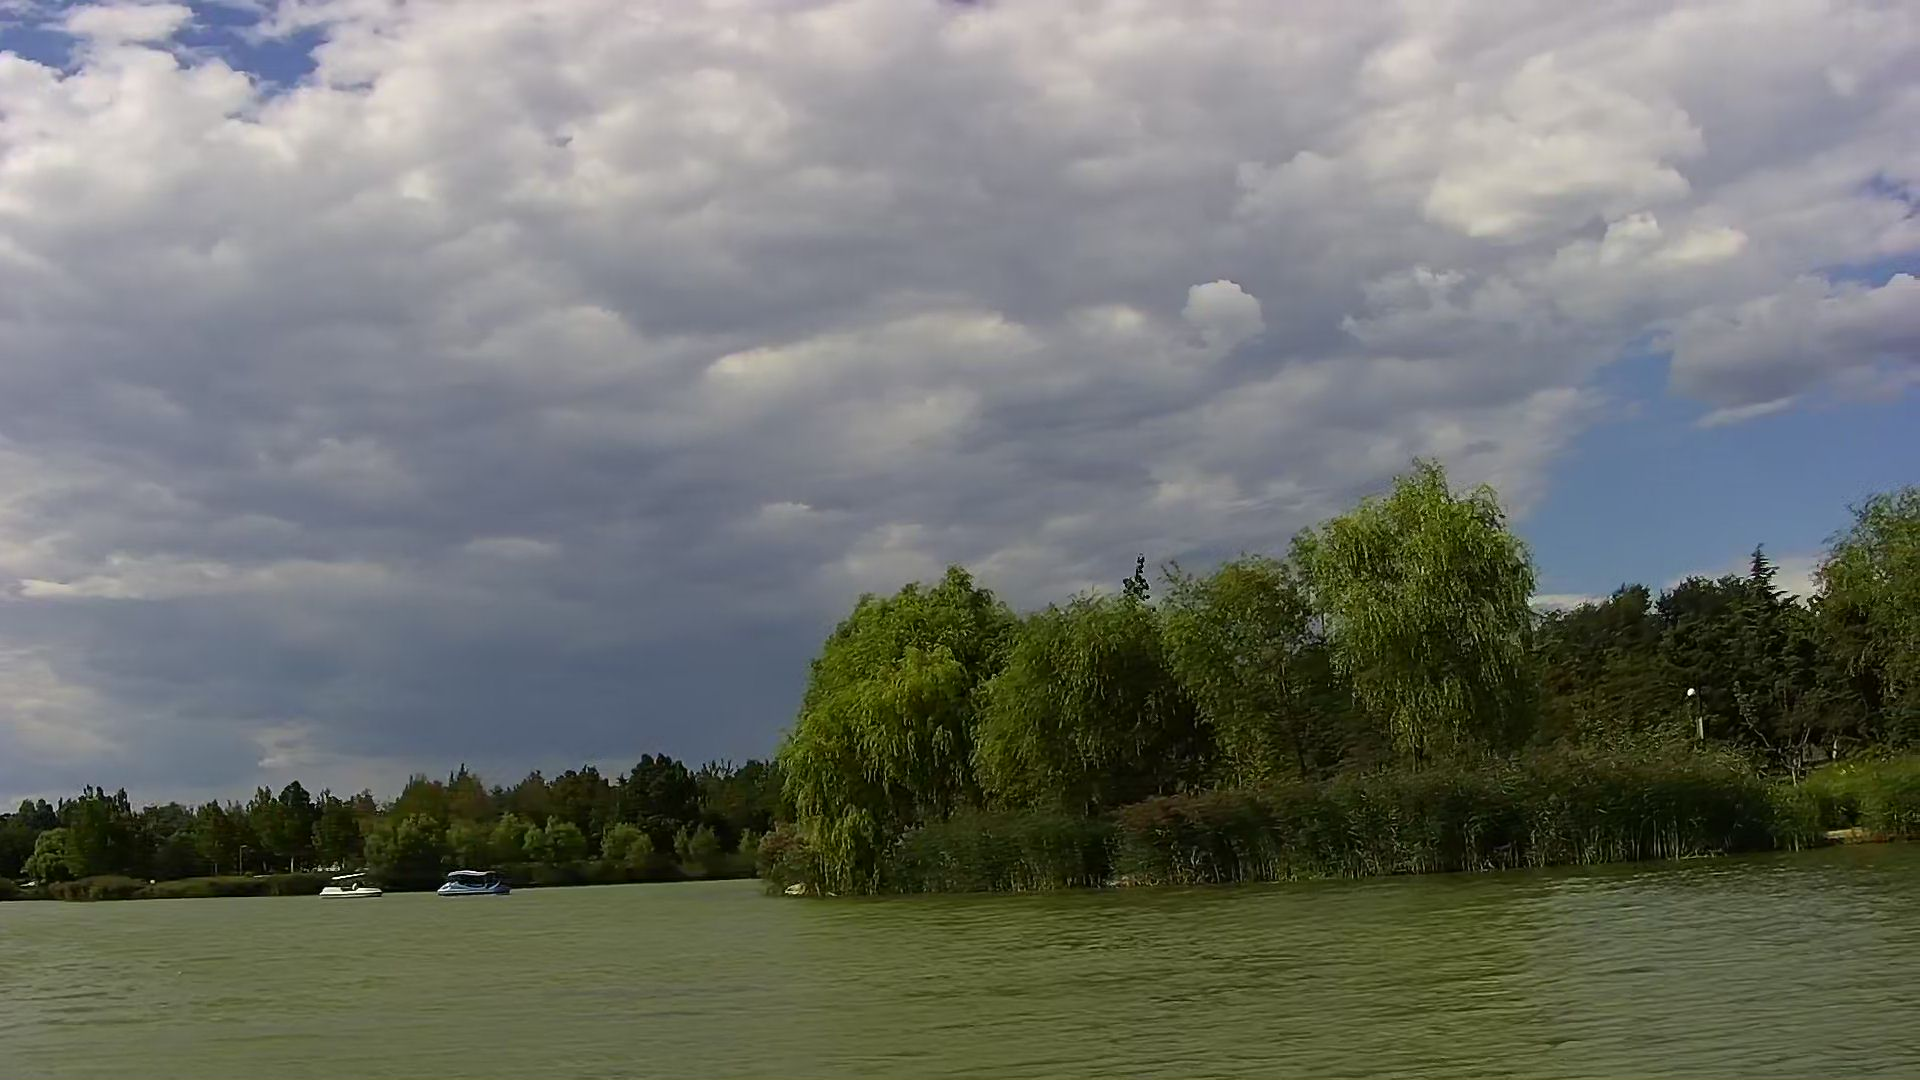boat: (319, 873, 382, 903), (436, 870, 502, 898)
rock: (785, 880, 804, 898)
